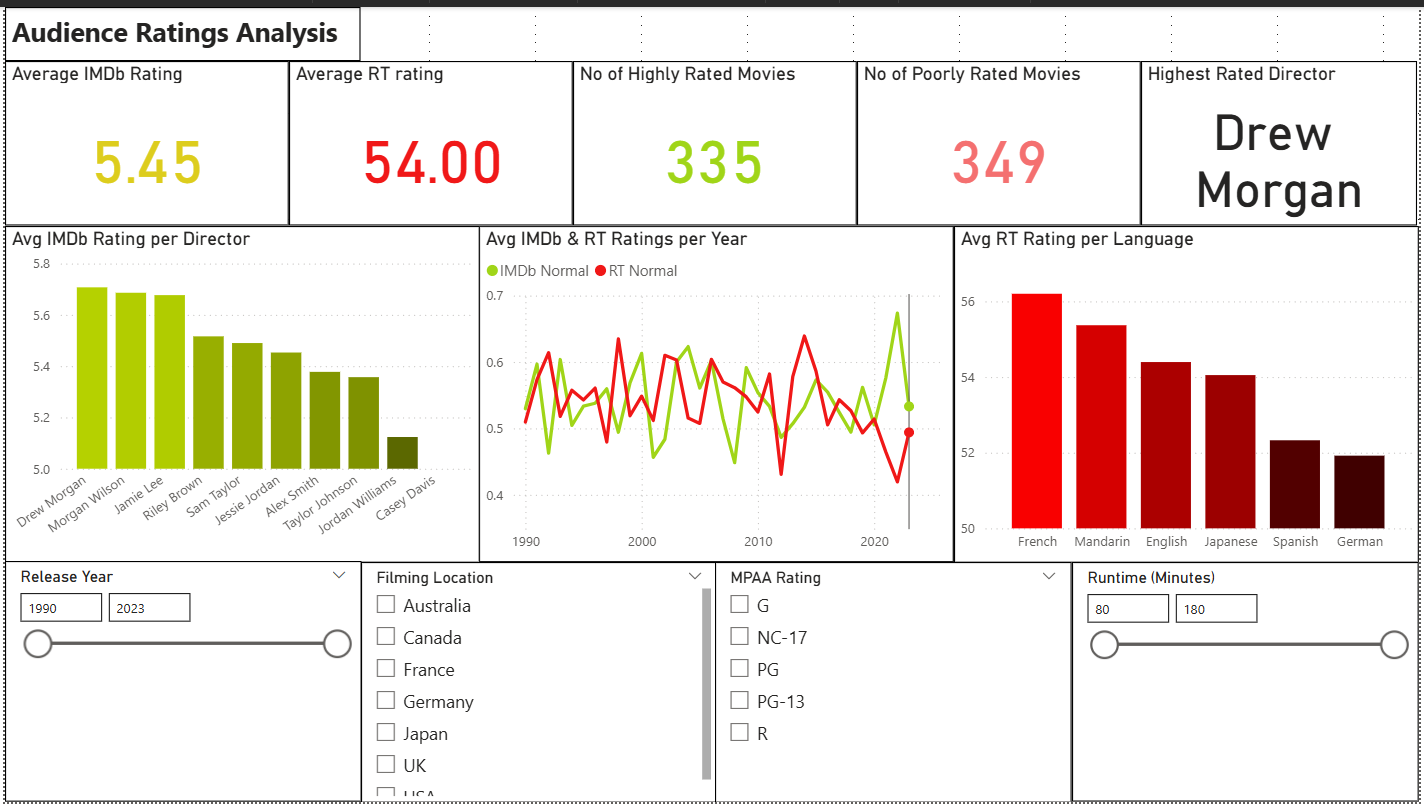

This screenshot's page, from the dashboard's own definition file:
{"tool":"powerbi","page":{"name":"Audience Ratings Dashboard","canvas":[1280,720],"ordinal":15},"visuals":[{"type":"textbox","box":[0,0,322.4,48.9],"z":0},{"type":"card","title":"Average IMDb Rating","fields":{"Values":["Revenue & Ratings.IMDb Rating"]},"box":[0,48.5,257.3,149.4],"z":1000},{"type":"card","title":"Average RT rating","fields":{"Values":["Revenue & Ratings.Rotten Tomatoes Rating (%)"]},"box":[257.2,48.9,257.2,149.4],"z":2000},{"type":"card","title":"No of Highly Rated Movies","fields":{"Values":["Production Details.Movie ID"]},"box":[514.6,48.5,257.3,149.4],"z":3000},{"type":"card","title":"No of Poorly Rated Movies","fields":{"Values":["Production Details.Movie ID"]},"box":[772,48.5,257.3,149.4],"z":4000},{"type":"card","title":"Highest Rated Director","fields":{"Values":["Production Details.Highest Rated Director"]},"box":[1029.3,48.5,250.4,149.4],"z":5000},{"type":"columnChart","title":"Avg IMDb Rating per Director","fields":{"Category":["Production Details.Director"],"Y":["Revenue & Ratings.IMDb Rating"]},"box":[0,197.9,429.5,304.8],"z":6000},{"type":"lineChart","title":"Avg IMDb & RT Ratings per Year","fields":{"Category":["Production Details.Release Year"],"Y":["Revenue & Ratings.IMDb Normal","Revenue & Ratings.RT Normal"]},"box":[429.5,197.9,429.5,304.8],"z":7000},{"type":"columnChart","title":"Avg RT Rating per Language","fields":{"Category":["Production Details.Language"],"Y":["Revenue & Ratings.RT Rating (%)"]},"box":[859.1,197.9,420.6,304.8],"z":8000},{"type":"slicer","fields":{"Values":["Production Details.Release Year"]},"box":[0,501.8,322.6,217.7],"z":9000},{"type":"slicer","fields":{"Values":["Production Details.Filming Location"]},"box":[322.6,502.8,322.6,217.7],"z":10000},{"type":"slicer","fields":{"Values":["Revenue & Ratings.MPAA Rating"]},"box":[643.3,502.8,322.6,217.7],"z":11000},{"type":"slicer","fields":{"Values":["Production Details.Runtime (Minutes)"]},"box":[966,503,314,217],"z":12000}]}

Visuals, with their boxes in screenshot pixels (x1, y1, x2, y2), scaled from the page's 1280x720 canvas onto the 1424x806 screenshot:
textbox: <bbox>0, 0, 359, 55</bbox>
"Average IMDb Rating" card: <bbox>0, 54, 286, 222</bbox>
"Average RT rating" card: <bbox>286, 55, 572, 222</bbox>
"No of Highly Rated Movies" card: <bbox>572, 54, 859, 222</bbox>
"No of Poorly Rated Movies" card: <bbox>859, 54, 1145, 222</bbox>
"Highest Rated Director" card: <bbox>1145, 54, 1423, 222</bbox>
"Avg IMDb Rating per Director" columnChart: <bbox>0, 222, 478, 563</bbox>
"Avg IMDb & RT Ratings per Year" lineChart: <bbox>478, 222, 956, 563</bbox>
"Avg RT Rating per Language" columnChart: <bbox>956, 222, 1423, 563</bbox>
slicer - Production Details.Release Year: <bbox>0, 562, 359, 805</bbox>
slicer - Production Details.Filming Location: <bbox>359, 563, 718, 805</bbox>
slicer - Revenue & Ratings.MPAA Rating: <bbox>716, 563, 1075, 805</bbox>
slicer - Production Details.Runtime (Minutes): <bbox>1075, 563, 1423, 805</bbox>
